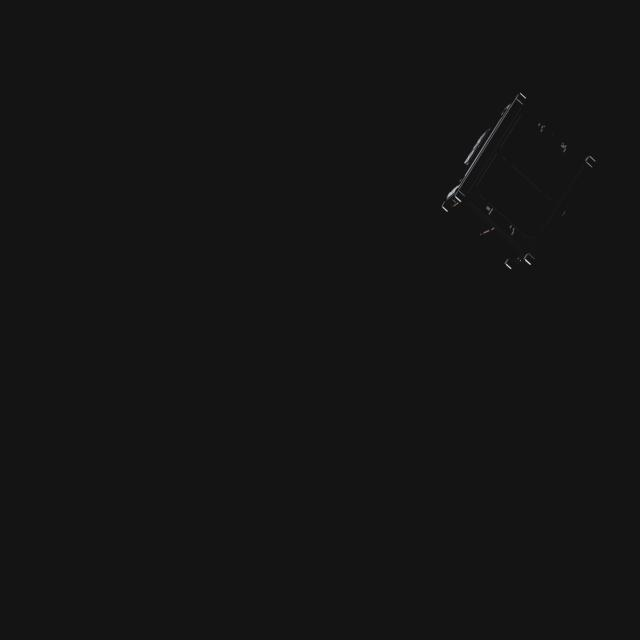medium_debris: (440, 83, 616, 284)
